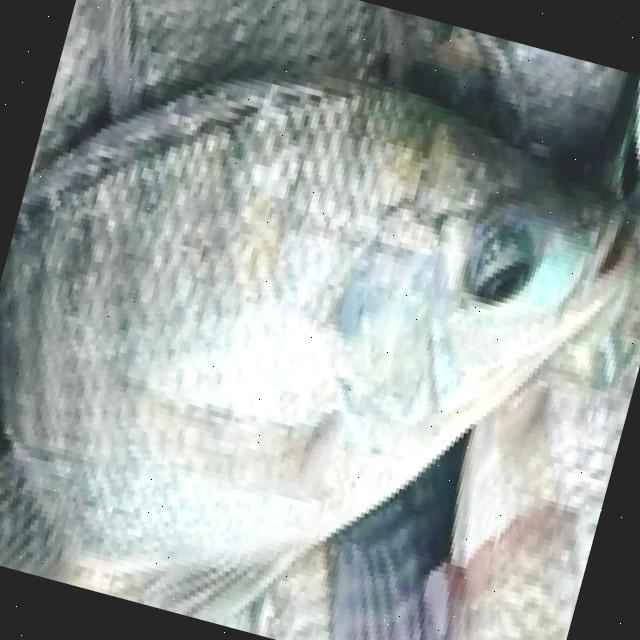Columnaris Disease: (0, 78, 634, 621)
